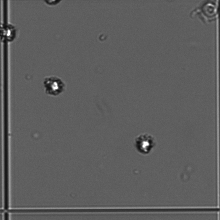Dead Cell: (201, 1, 218, 18)
Living Cell: (134, 133, 155, 155), (43, 76, 65, 96), (1, 23, 17, 43)
